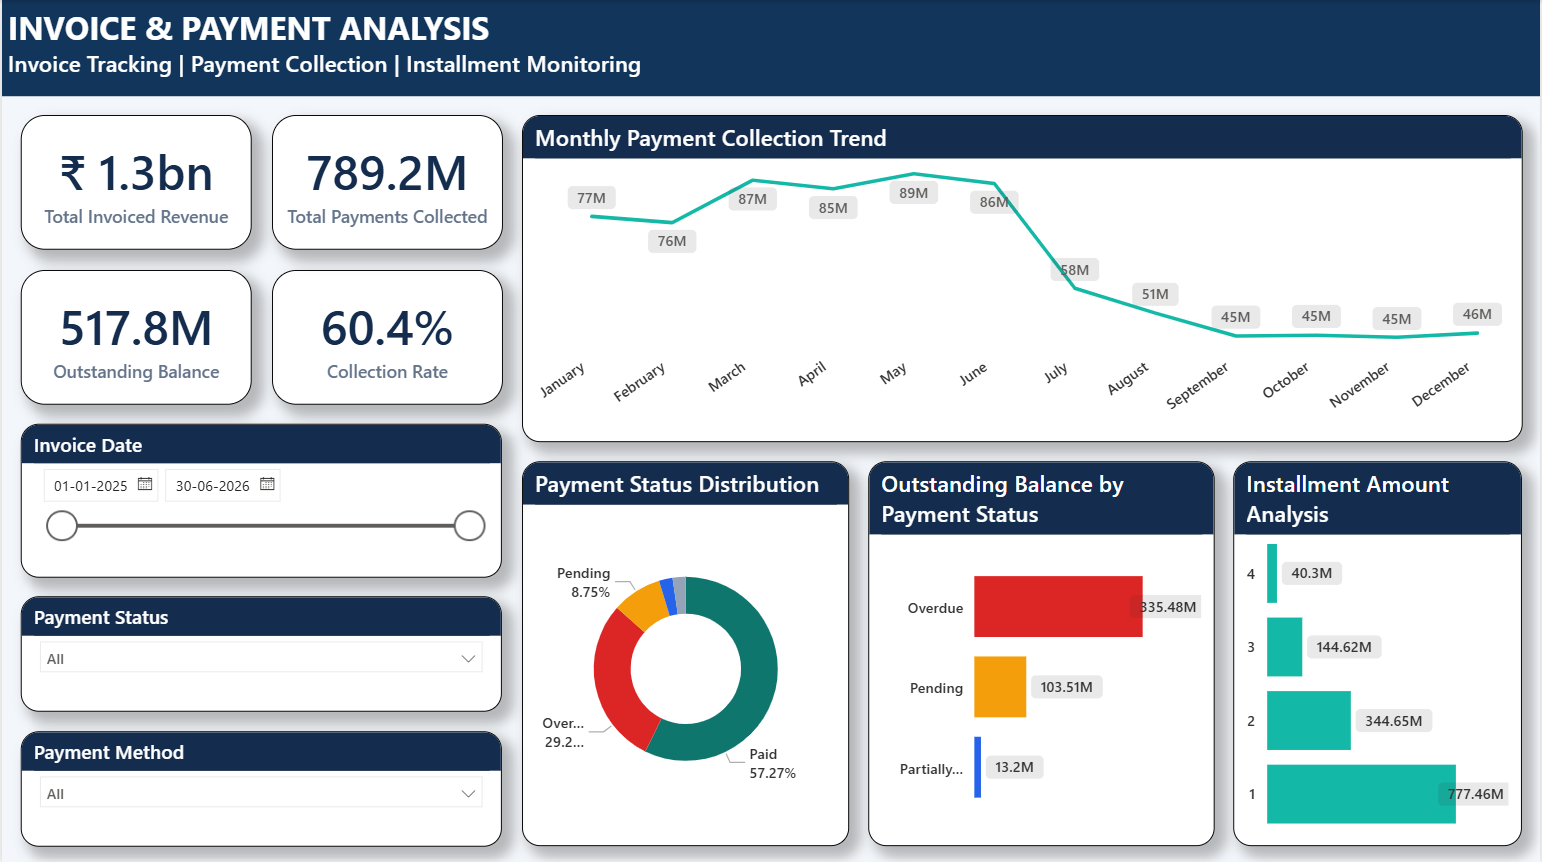

The dashboard page shown, as its layout file describes it:
{"tool":"powerbi","page":{"name":"Invoice & Payment Analysis","canvas":[1280,720],"ordinal":3},"visuals":[{"type":"textbox","box":[0,0,1280,80],"z":0},{"type":"card","fields":{"Values":["Colleges.Total Invoiced Revenue"]},"box":[16,96,192,112],"z":1000},{"type":"card","fields":{"Values":["Colleges.Collection Rate"]},"box":[224,224,192,112],"z":2000},{"type":"card","fields":{"Values":["Colleges.Outstanding Balance"]},"box":[16,224,192,112],"z":3000},{"type":"card","fields":{"Values":["Colleges.Total Payments Collected"]},"box":[224,96,192,112],"z":4000},{"type":"donutChart","title":"Payment Status Distribution","fields":{"Category":["Payments.Payment_Status"],"Y":["CountNonNull(Payments.Payment_ID)"]},"box":[432,384,272,320],"z":5000},{"type":"lineChart","title":"Monthly Payment Collection Trend","fields":{"Category":["Payments.Payment_Date.Variation.Date Hierarchy.Month"],"Y":["Colleges.Total Payments Collected"]},"box":[432,96,832,272],"z":6000},{"type":"clusteredBarChart","title":"Outstanding Balance by Payment Status","fields":{"Category":["Payments.Payment_Status"],"Y":["Payments.Collectible Outstanding Balance"]},"box":[720,384,288,320],"z":7000},{"type":"slicer","title":"Invoice Date","fields":{"Values":["Invoices.Invoice_Date"]},"box":[16,352,400,128],"z":8000},{"type":"slicer","title":"Payment Status","fields":{"Values":["Payments.Payment_Status"]},"box":[16,496,400,96],"z":9000},{"type":"slicer","title":"Payment Method","fields":{"Values":["Payments.Payment_Method"]},"box":[16,608,400,96],"z":10000},{"type":"clusteredBarChart","title":"Installment Amount Analysis","fields":{"Category":["Payments.Installment_No"],"Y":["Sum(Payments.Installment_Amount_INR)"]},"box":[1024,384,240,320],"z":11000}]}

Visuals, with their boxes in screenshot pixels (x1, y1, x2, y2), scaled from the page's 1280x720 canvas onto the 1542x862 screenshot:
textbox: [left=0, top=0, right=1541, bottom=96]
card - Colleges.Total Invoiced Revenue: [left=19, top=115, right=251, bottom=249]
card - Colleges.Collection Rate: [left=270, top=268, right=501, bottom=402]
card - Colleges.Outstanding Balance: [left=19, top=268, right=251, bottom=402]
card - Colleges.Total Payments Collected: [left=270, top=115, right=501, bottom=249]
"Payment Status Distribution" donutChart: [left=520, top=460, right=848, bottom=843]
"Monthly Payment Collection Trend" lineChart: [left=520, top=115, right=1523, bottom=441]
"Outstanding Balance by Payment Status" clusteredBarChart: [left=867, top=460, right=1214, bottom=843]
"Invoice Date" slicer: [left=19, top=421, right=501, bottom=575]
"Payment Status" slicer: [left=19, top=594, right=501, bottom=709]
"Payment Method" slicer: [left=19, top=728, right=501, bottom=843]
"Installment Amount Analysis" clusteredBarChart: [left=1234, top=460, right=1523, bottom=843]
